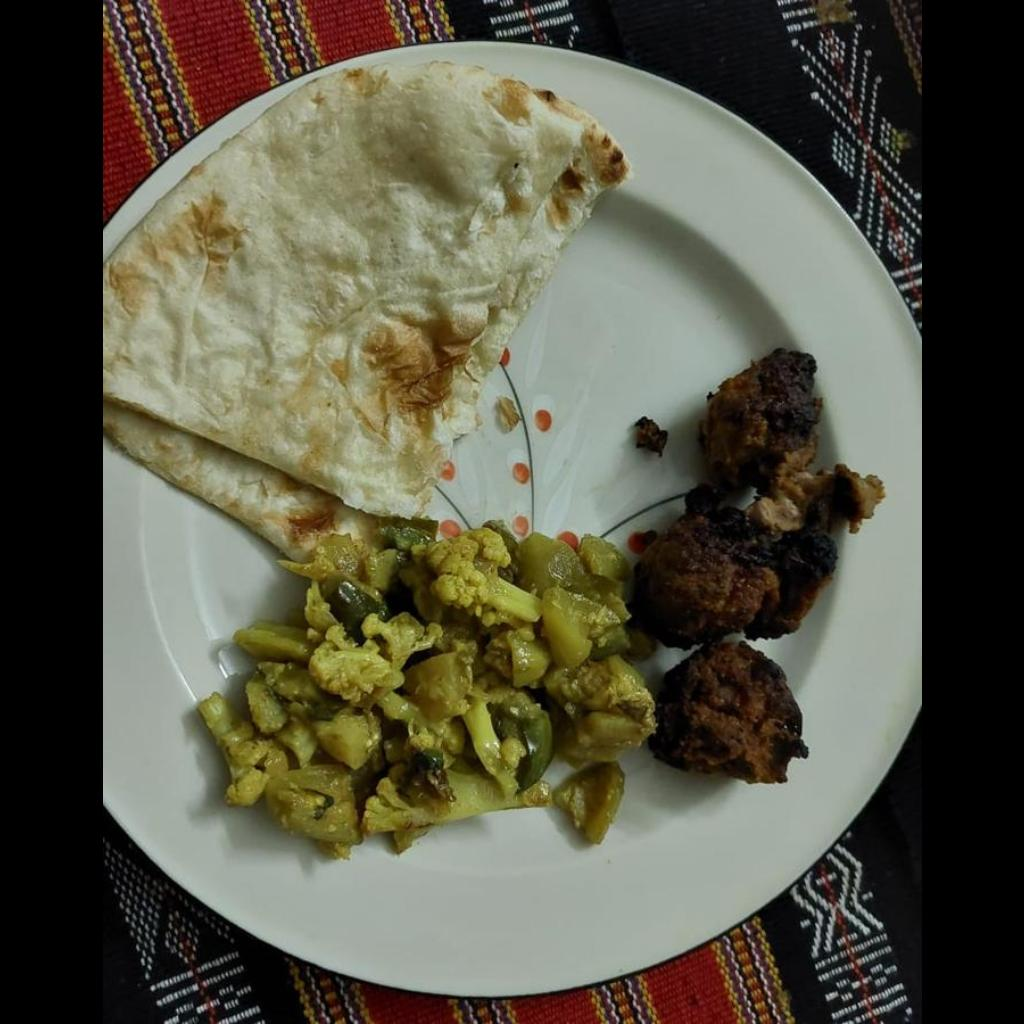beef: (635, 345, 887, 780)
ruti: (103, 68, 631, 565)
vegetable: (203, 516, 650, 849)
